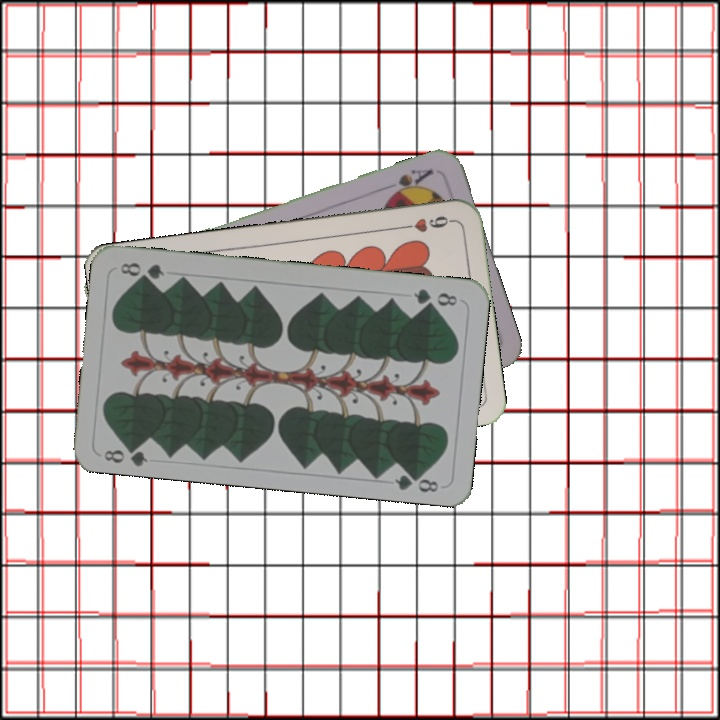G8: (100, 439, 150, 468), (409, 284, 460, 310)
H9: (397, 211, 456, 235)
SA: (384, 165, 436, 201)
